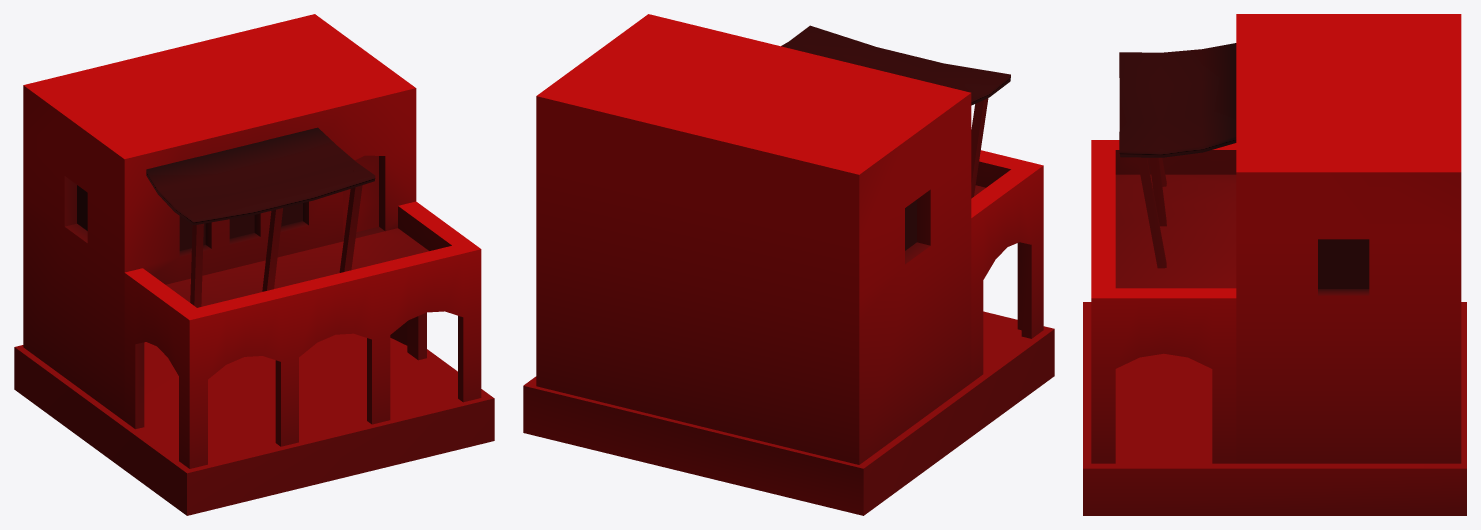
Rendered from buildings-historical-desertbuildingold_v1.fbx.
The picture shows the model from 3 angles, left to right: view 1: azimuth 30°, elevation 25°; view 2: azimuth 150°, elevation 25°; view 3: azimuth 270°, elevation 25°; orthographic projection. The views are drawn at different scales.
Visible parts, largest first — view 1: DesertBuildingOld_v1; view 2: DesertBuildingOld_v1; view 3: DesertBuildingOld_v1.
Part boxes in pixels (x1,y1,x2,y2): DesertBuildingOld_v1: [14, 14, 494, 515]; DesertBuildingOld_v1: [523, 14, 1054, 515]; DesertBuildingOld_v1: [1083, 14, 1466, 515].
Bounding box in the file's own units: 13.37 × 12.67 × 13.01.
